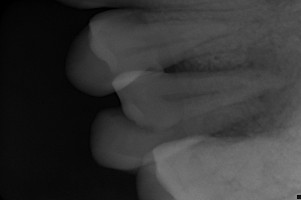Dental Caries: (165, 46, 301, 139)
